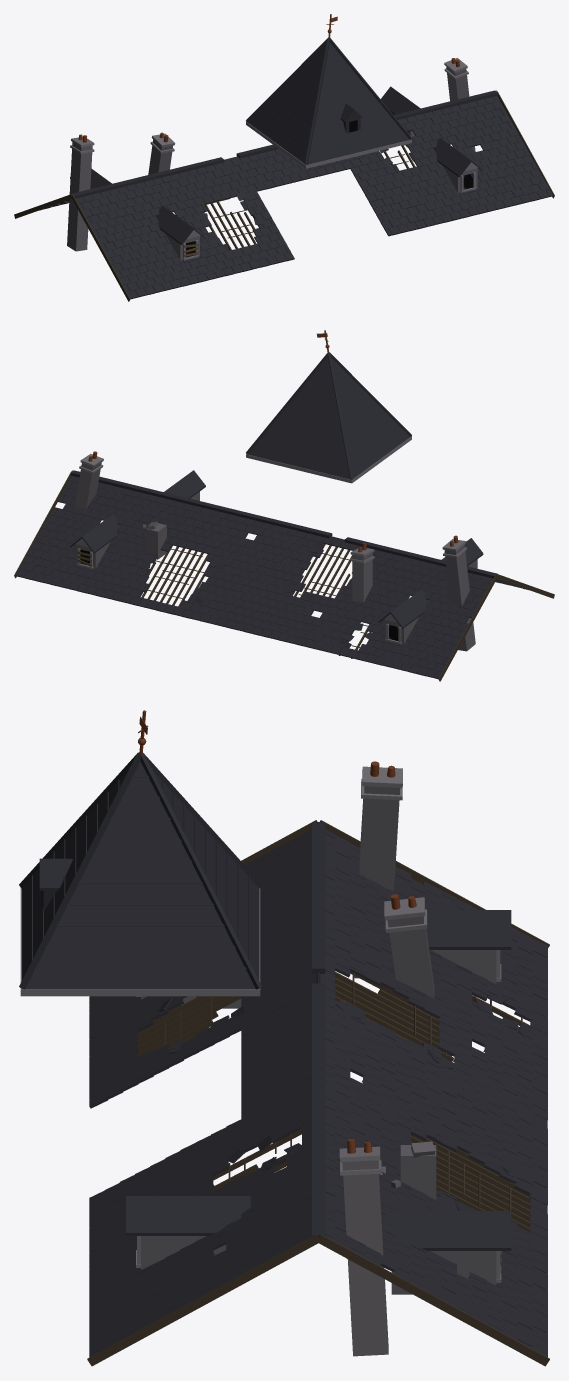
File: SM_Abandoned_Roof.fbx
3 renders of one model, top to bottom at view 1: azimuth 30°, elevation 25°; view 2: azimuth 150°, elevation 25°; view 3: azimuth 270°, elevation 25°, orthographic. The views are drawn at different scales.
Parts seen in each view (by area): view 1: SM_Abandoned_Roof; view 2: SM_Abandoned_Roof; view 3: SM_Abandoned_Roof.
Part boxes in pixels (<box>): SM_Abandoned_Roof: <box>14,14,554,301</box>; SM_Abandoned_Roof: <box>14,330,554,681</box>; SM_Abandoned_Roof: <box>19,710,549,1366</box>.
Size of the model in its own units: 41.36 by 21.2 by 22.37.
